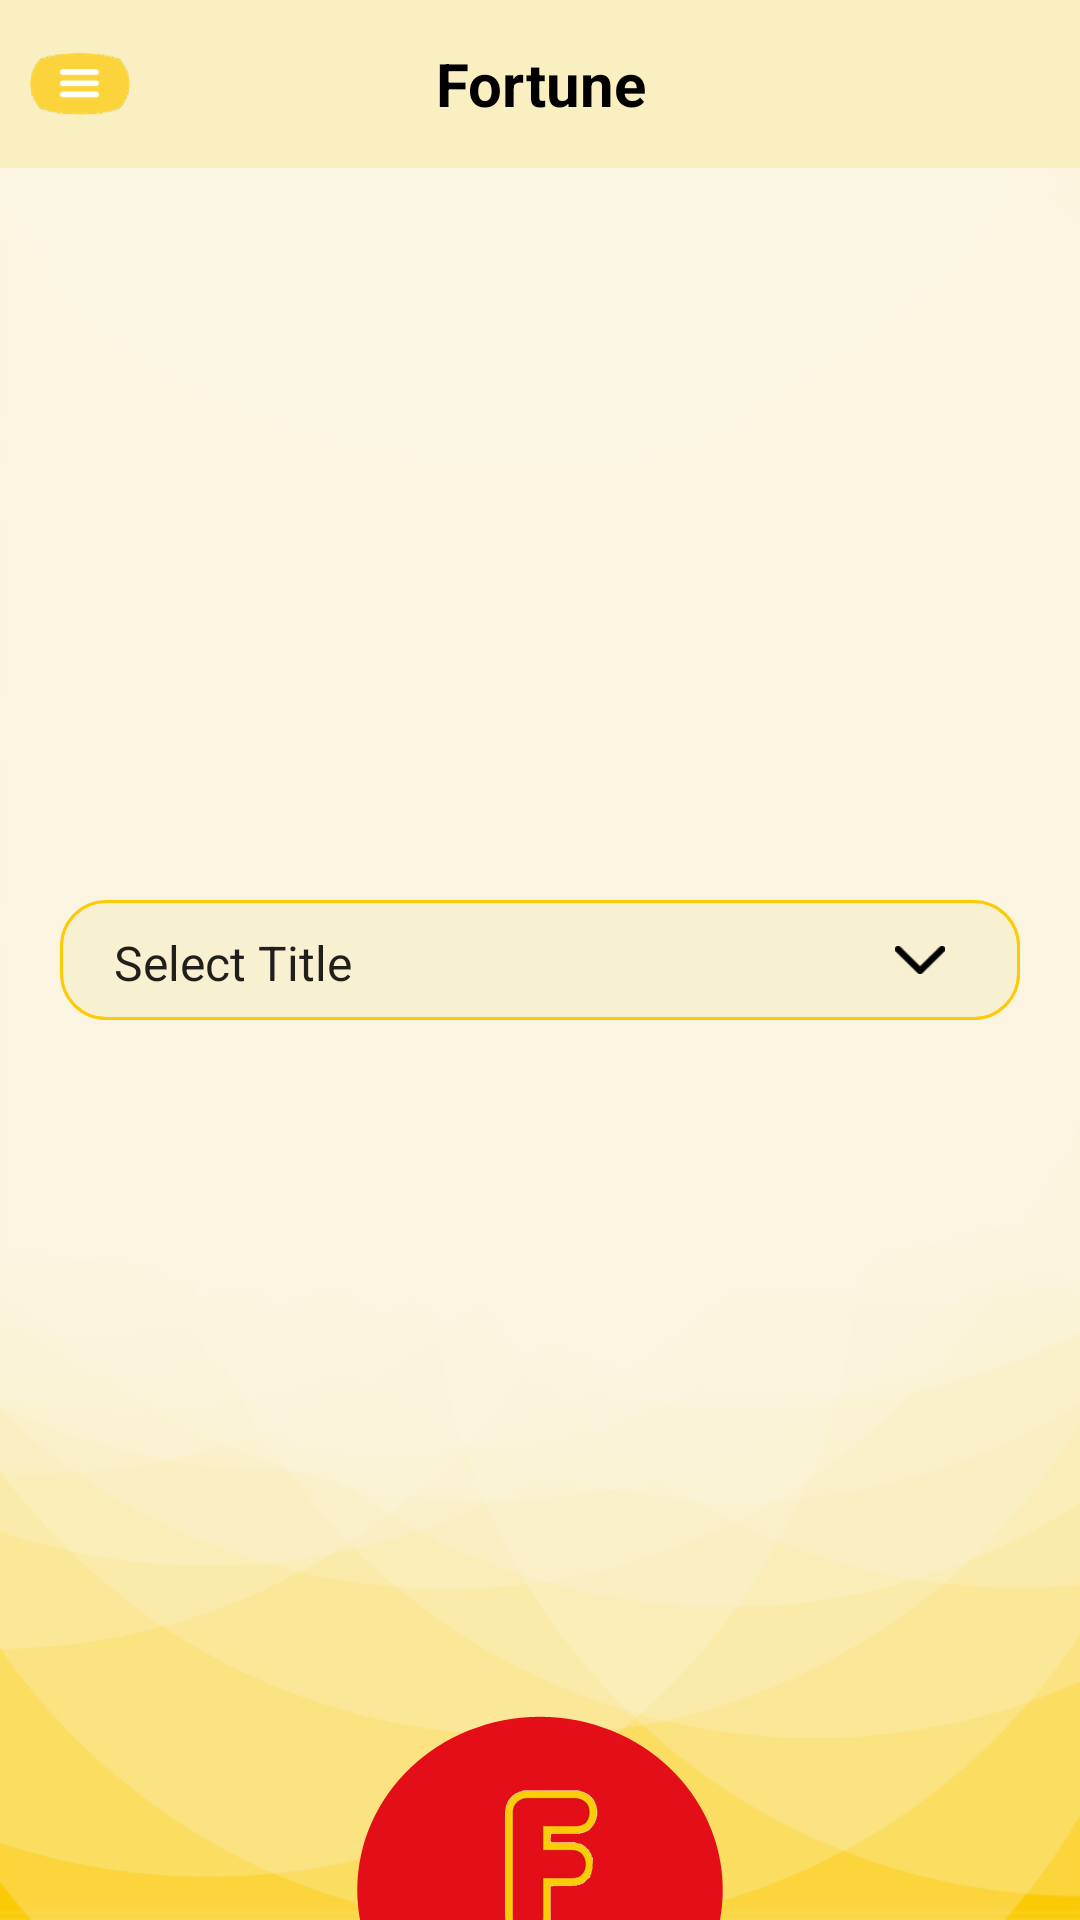

Icon click points for this 1080*1920 phone screenshot, format [x,y]:
dropdown: [920,960]
menu: [80,84]
